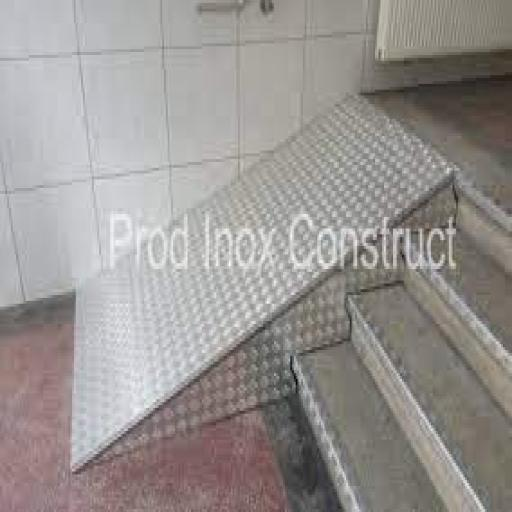ramp: (60, 55, 454, 477)
stairs: (295, 156, 512, 512)
